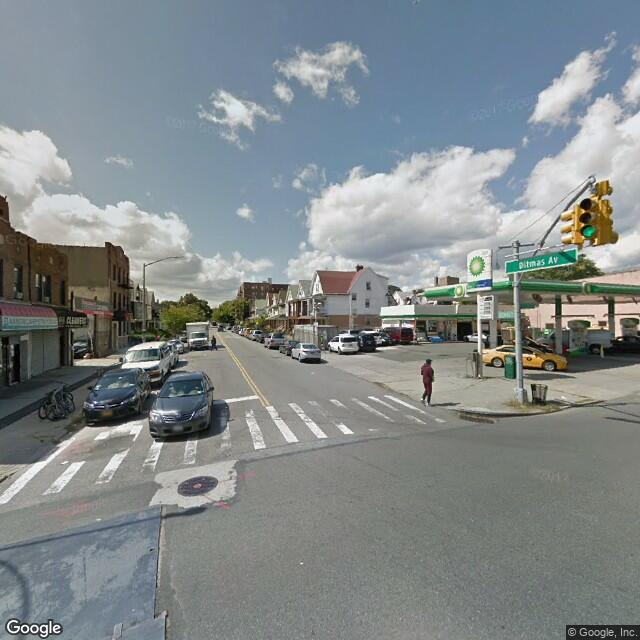litter: (560, 396, 568, 401), (64, 462, 68, 465)
